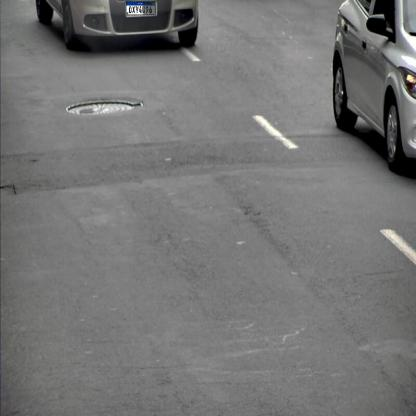PlacaM: (126, 2, 155, 16)
